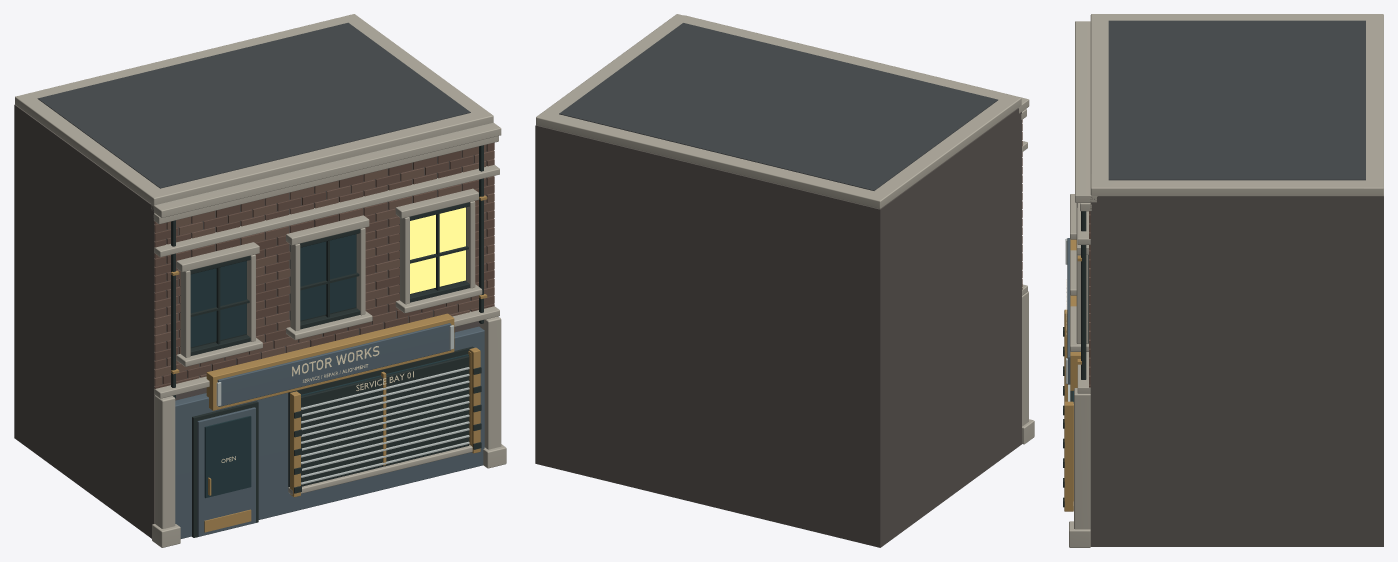
File: district-motor-works.glb
The picture shows the model from 3 angles, left to right: view 1: azimuth 30°, elevation 25°; view 2: azimuth 150°, elevation 25°; view 3: azimuth 270°, elevation 25°; orthographic projection. The views are drawn at different scales.
Parts seen in each view (by area): view 1: Existing envelope, District Roof membrane, District Warm limestone, District Charcoal painted metal, Roof cap, District Opaque dark glazing, District Coffee enamel, District Brick tone 0, District Appliance enamel, Sign enamel inset, District Brick tone 3, District Brick tone 4 (+6 smaller); view 2: Existing envelope, District Roof membrane, Roof cap, District Warm limestone; view 3: Existing envelope, District Roof membrane, Roof cap, District Warm limestone, District Aged brass, District Charcoal painted metal, Sign brass frame, Sign enamel inset.
Boxes of the visible parts, bbox=[...] form: Existing envelope: bbox=[14, 104, 493, 538]; District Roof membrane: bbox=[37, 22, 470, 188]; District Warm limestone: bbox=[151, 122, 506, 547]; District Charcoal painted metal: bbox=[171, 145, 483, 537]; Roof cap: bbox=[15, 14, 493, 205]; District Opaque dark glazing: bbox=[190, 234, 468, 498]; District Coffee enamel: bbox=[175, 326, 484, 538]; District Brick tone 0: bbox=[154, 150, 494, 388]; District Appliance enamel: bbox=[216, 325, 469, 484]; Sign enamel inset: bbox=[217, 323, 451, 406]; District Brick tone 3: bbox=[154, 150, 494, 365]; District Brick tone 4: bbox=[154, 161, 494, 386]; Existing envelope: bbox=[535, 108, 1021, 547]; District Roof membrane: bbox=[559, 23, 997, 190]; Roof cap: bbox=[536, 14, 1021, 208]; District Warm limestone: bbox=[684, 15, 1034, 444]; Existing envelope: bbox=[1090, 196, 1383, 546]; District Roof membrane: bbox=[1108, 20, 1365, 180]; Roof cap: bbox=[1090, 14, 1383, 196]; District Warm limestone: bbox=[1069, 21, 1097, 547]; District Aged brass: bbox=[1064, 255, 1081, 511]; District Charcoal painted metal: bbox=[1063, 211, 1088, 507]; Sign brass frame: bbox=[1070, 239, 1080, 390]; Sign enamel inset: bbox=[1067, 238, 1070, 384].
Size of the model in its own units: 7.71 by 7.31 by 5.91.
